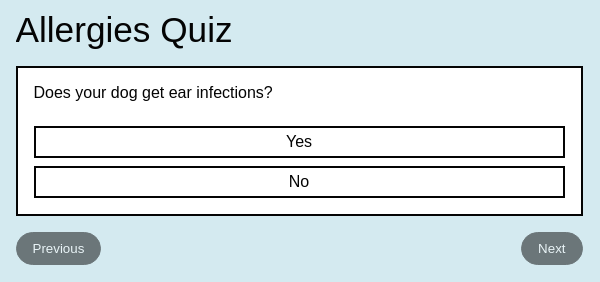
Test case: index page › should skip questions that satifies skipConditions
Step 1. Click the text "No" → (299, 182), box [289,172,309,190]
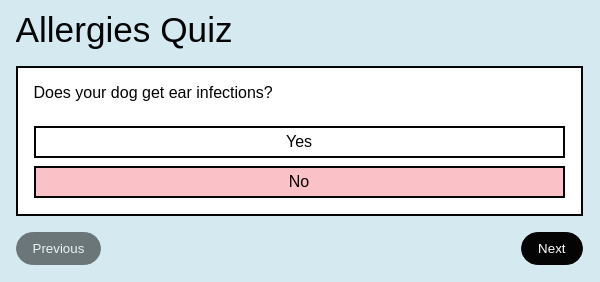
Step 2. Click the button "Next" → (552, 248), box [521,232,582,264]
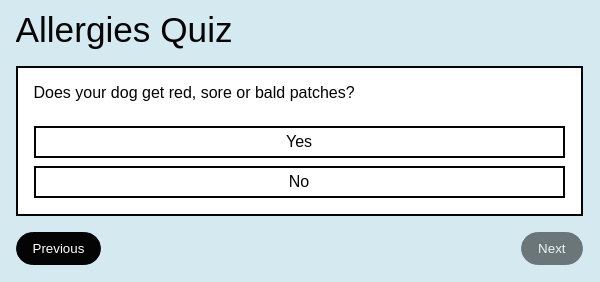
Expected: the text "Does your dog get red, sore or bald patches?" is shown, [34,84,355,102]
